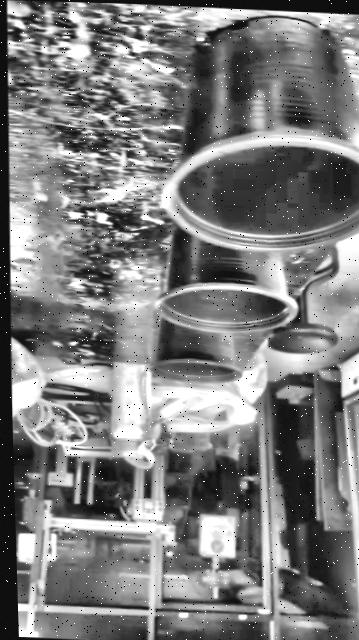pot: (163, 12, 359, 255), (155, 226, 296, 332), (150, 318, 241, 383)
